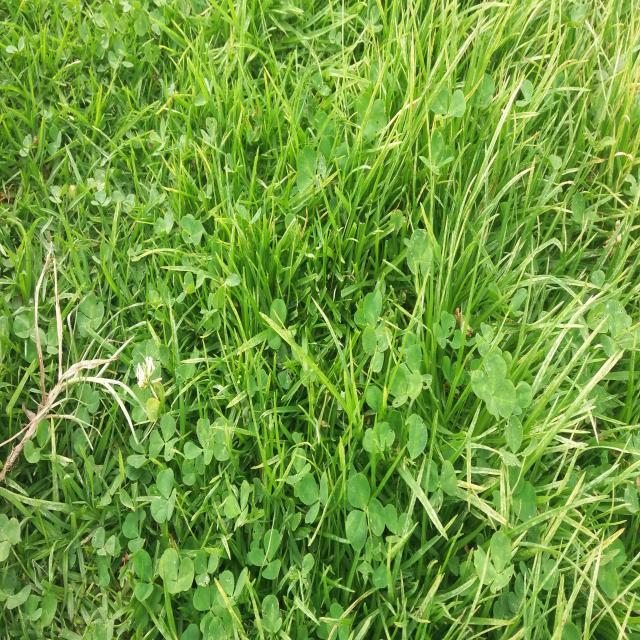Four Leaf Clover: (471, 354, 516, 421), (155, 211, 174, 237)
